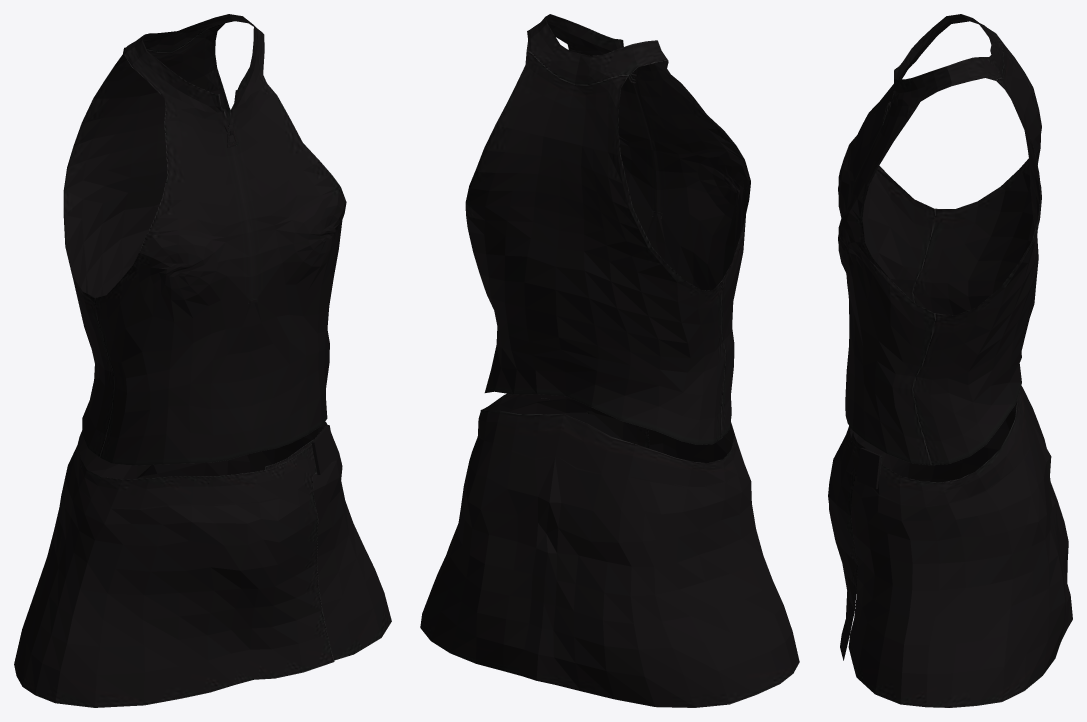
The model's file is mhw_mindfront_f_dress_04.glb.
3 views of the same model, side by side, from view 1: azimuth 30°, elevation 25°; view 2: azimuth 150°, elevation 25°; view 3: azimuth 270°, elevation 25° (orthographic). The views are drawn at different scales.
Visible parts, largest first — view 1: mhw_mindfront_f_dress_04; view 2: mhw_mindfront_f_dress_04; view 3: mhw_mindfront_f_dress_04.
Boxes of the visible parts, x1,y1,x2,y2 form: mhw_mindfront_f_dress_04: (14,14,391,707); mhw_mindfront_f_dress_04: (420,14,799,707); mhw_mindfront_f_dress_04: (828,14,1072,707).
Bounding box in the file's own units: 0.4873 × 0.8193 × 0.3069.
1 material, 1 textured.
